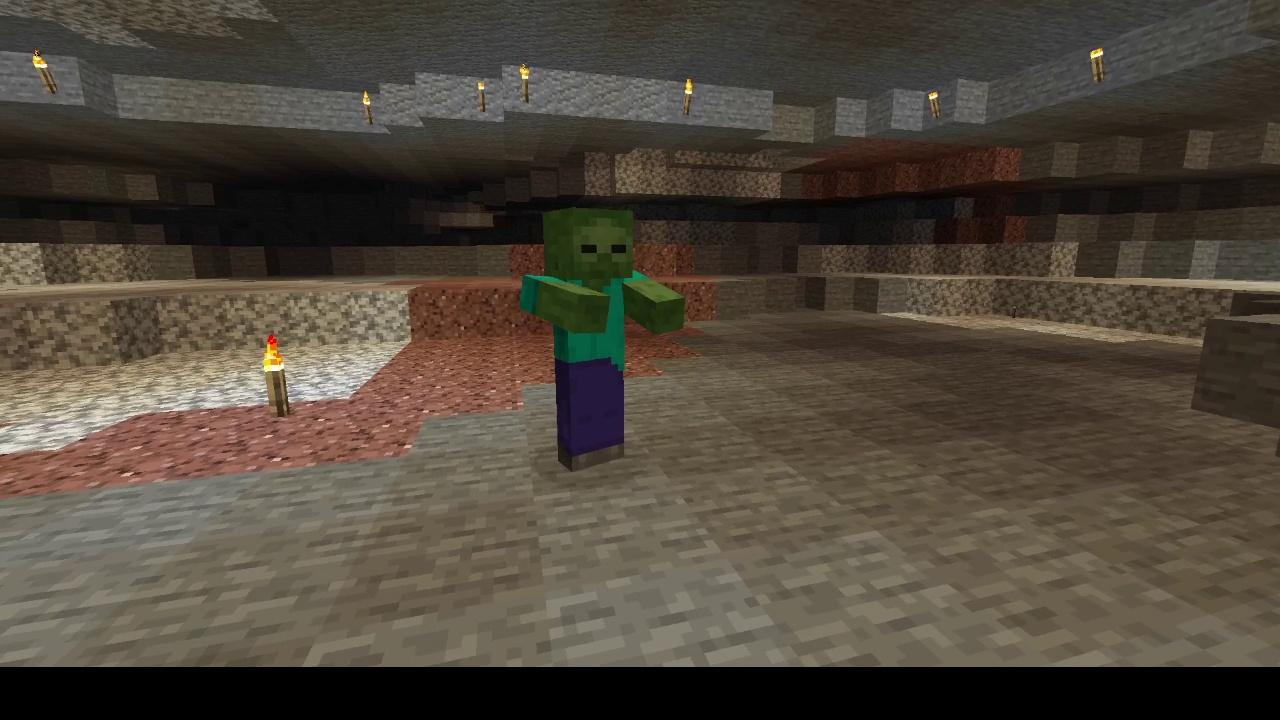zombie: (514, 200, 691, 478)
